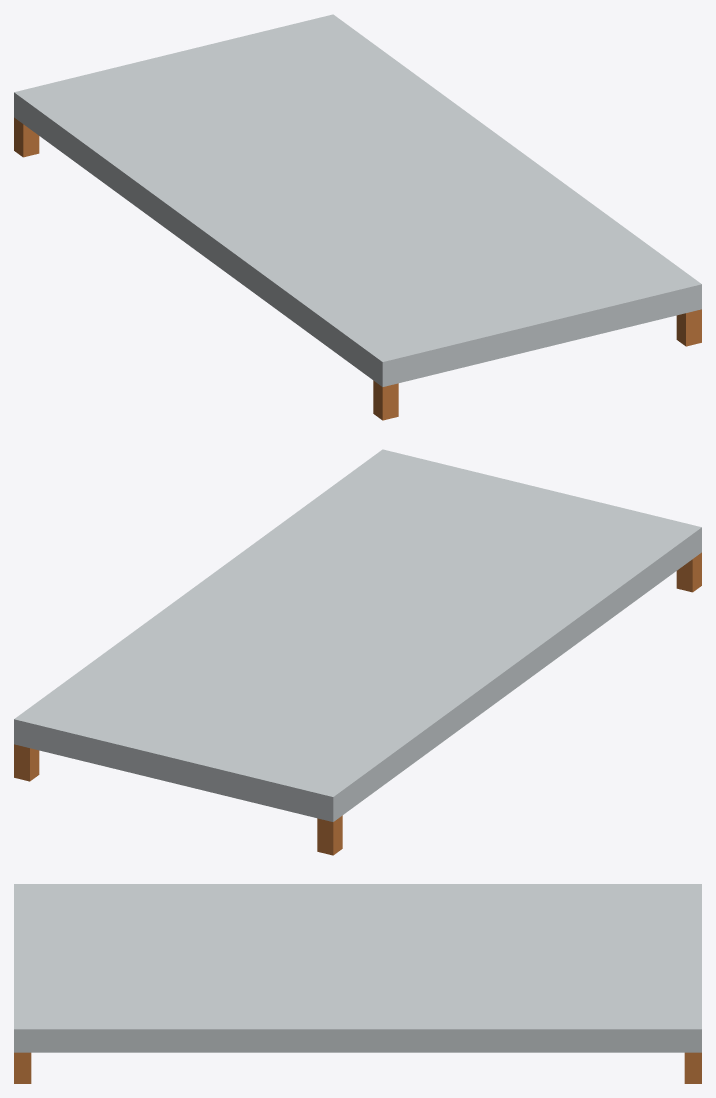
Rendered from bed.fbx.
3 views of the same model, one above another, from view 1: azimuth 30°, elevation 25°; view 2: azimuth 150°, elevation 25°; view 3: azimuth 270°, elevation 25° (orthographic). The views are drawn at different scales.
Visible parts, largest first — view 1: Cube, 足(左前), 足(右前), 足(左後ろ); view 2: Cube, 足(左後ろ), 足(右後ろ), 足(左前); view 3: Cube, 足(右前), 足(右後ろ).
Part boxes in pixels (bbox=[...]): Cube: bbox=[14, 14, 701, 386]; 足(左前): bbox=[373, 380, 398, 420]; 足(右前): bbox=[676, 309, 701, 346]; 足(左後ろ): bbox=[14, 117, 39, 157]; Cube: bbox=[14, 449, 701, 821]; 足(左後ろ): bbox=[317, 815, 342, 855]; 足(右後ろ): bbox=[14, 744, 39, 781]; 足(左前): bbox=[676, 552, 701, 592]; Cube: bbox=[14, 884, 701, 1052]; 足(右前): bbox=[14, 1052, 31, 1083]; 足(右後ろ): bbox=[684, 1052, 701, 1083].
Bounding box in the file's own units: 200 × 35 × 400.
